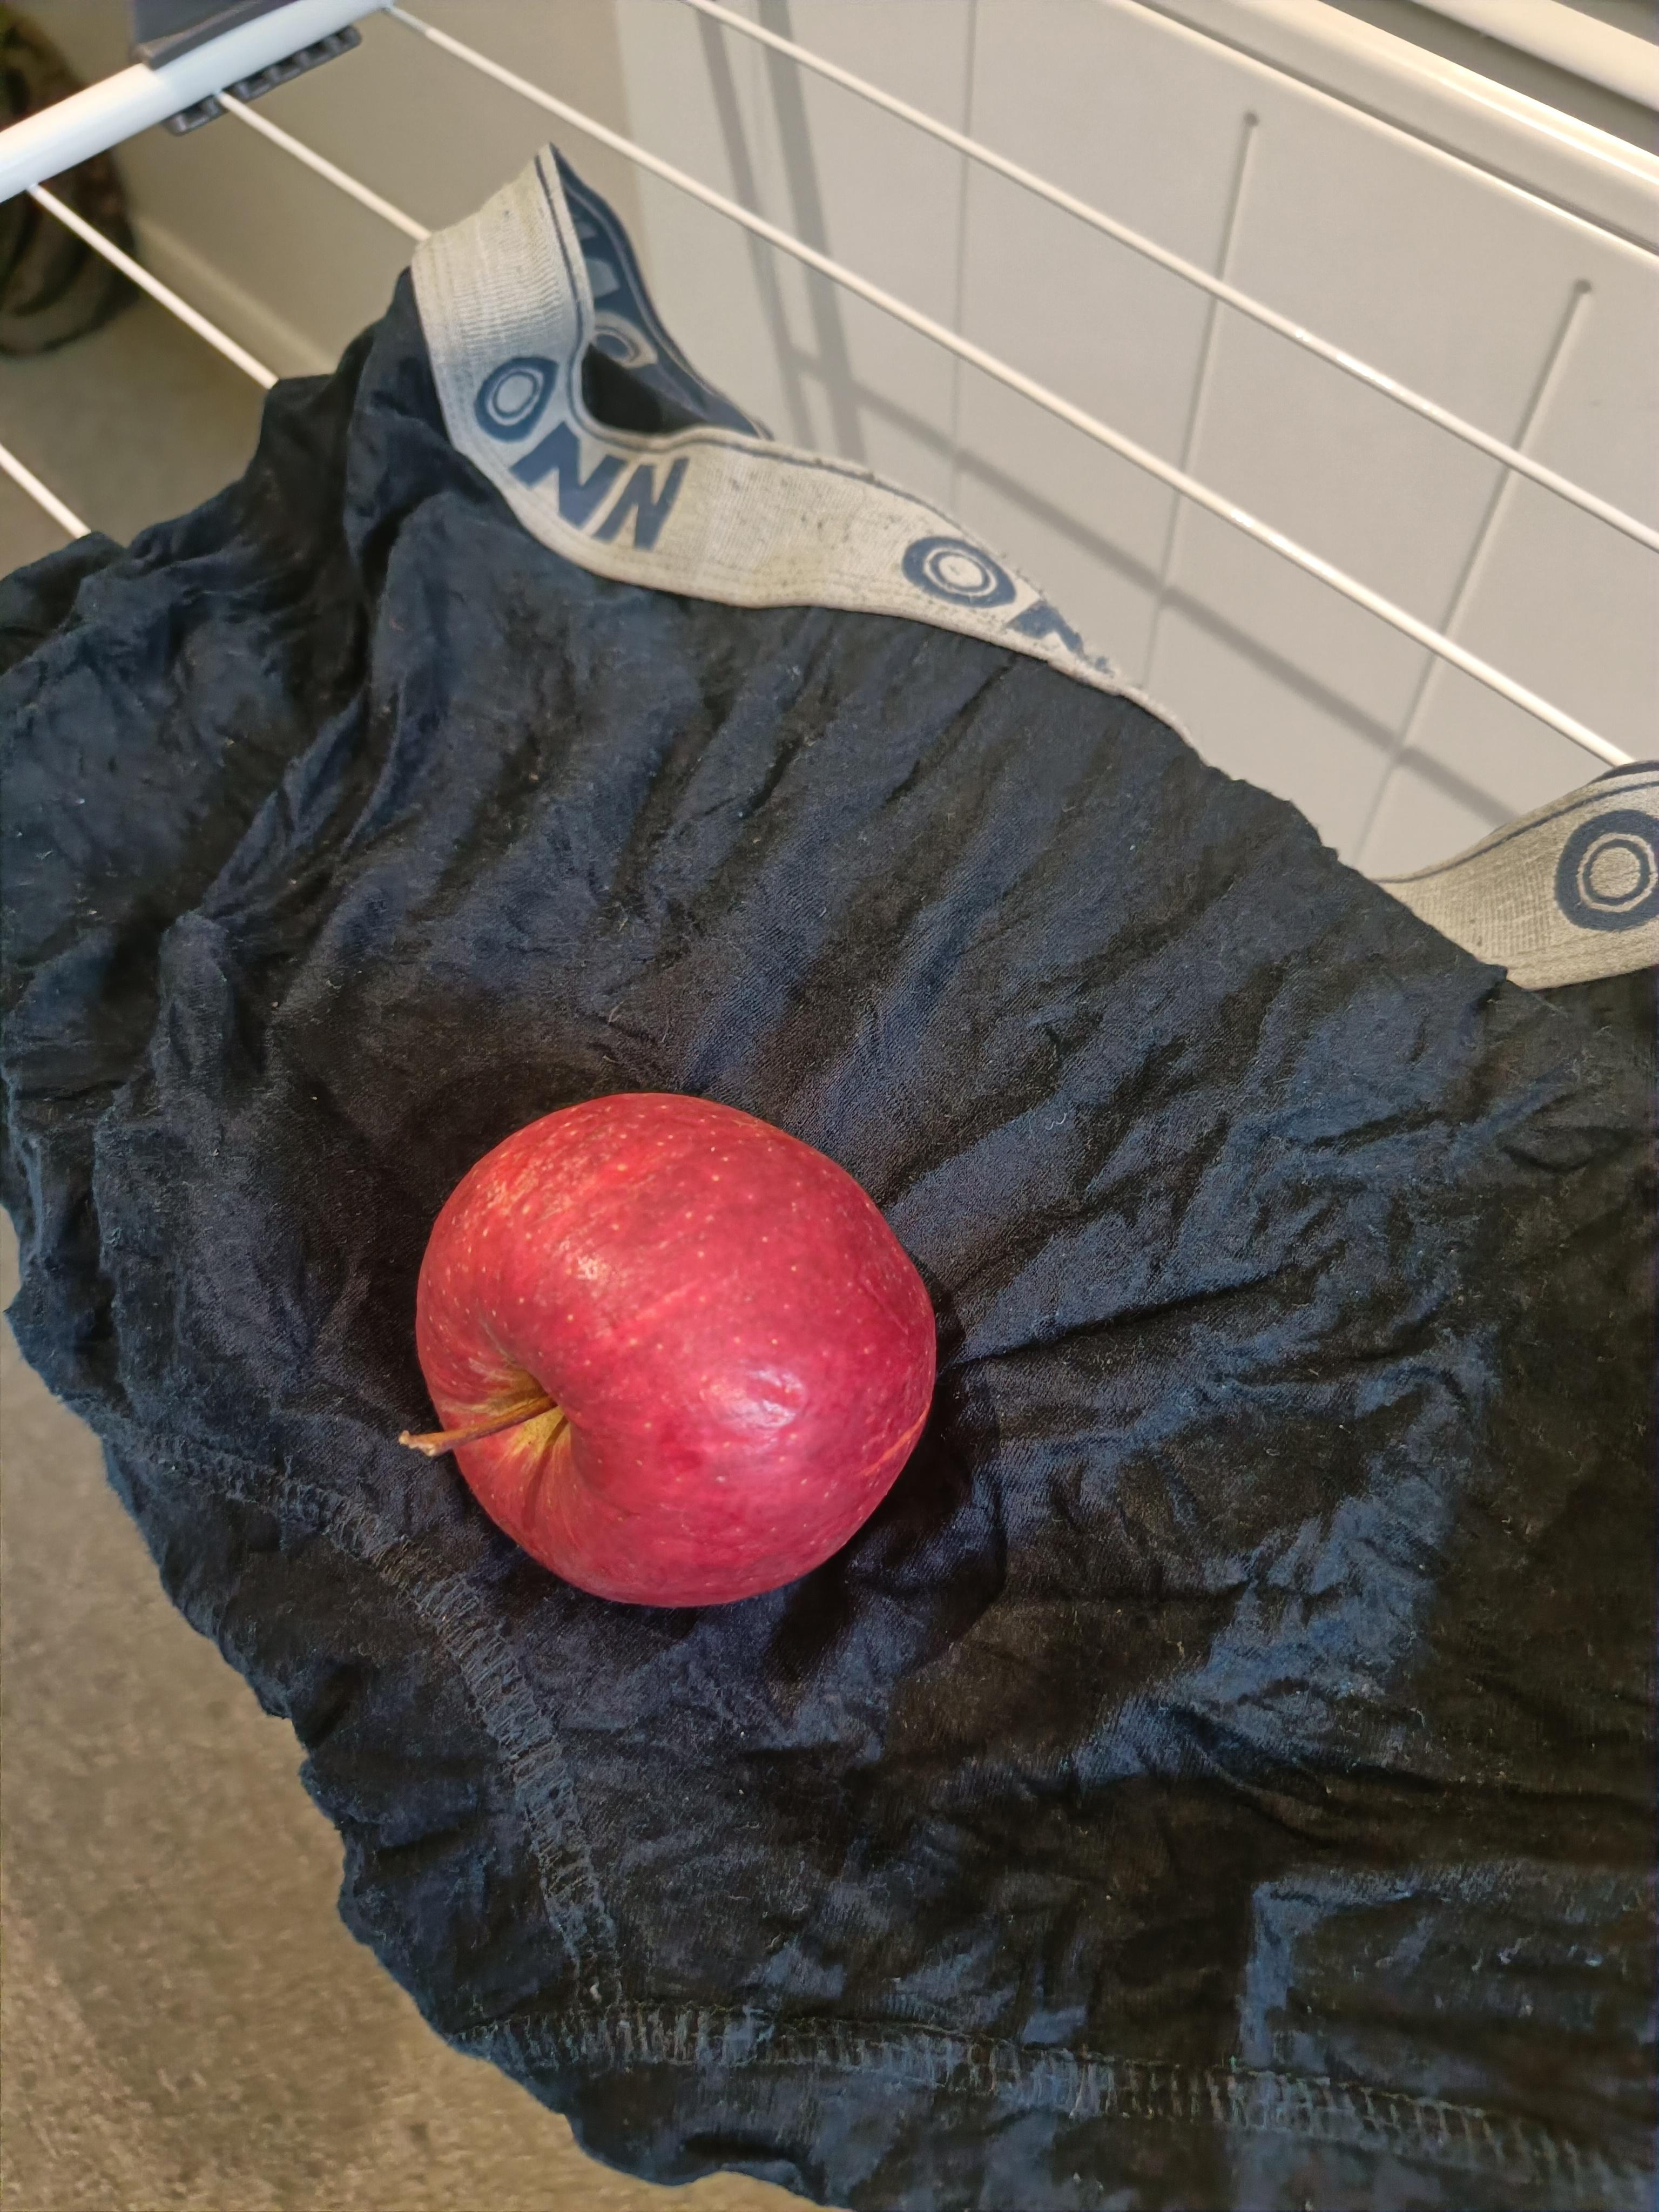Apple: (390, 1080, 972, 1609)
